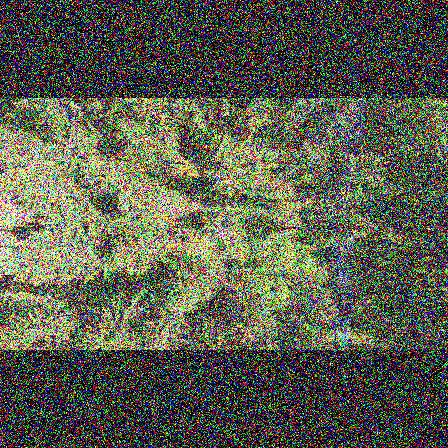Sick: (204, 215, 237, 249), (301, 140, 326, 169)
